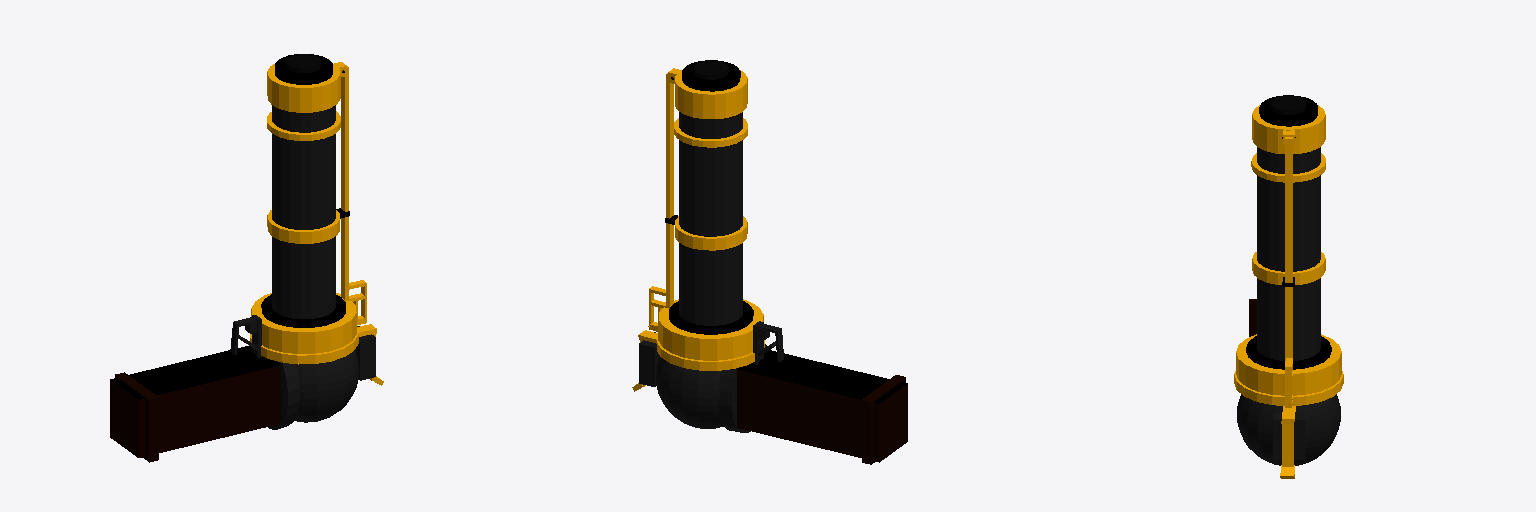
The model's file is 0612gun1.obj.
3 renders of one model, left to right at view 1: azimuth 30°, elevation 25°; view 2: azimuth 150°, elevation 25°; view 3: azimuth 270°, elevation 25°, orthographic.
Parts seen in each view (by area): view 1: pCube16, pCylinder1, pSphere5, pCylinder8, pCylinder4, pCube2, pCube17, pCylinder10, pCylinder2, pCylinder7, pCylinder9, pCylinder5 (+3 smaller); view 2: pCube16, pCylinder1, pSphere5, pCylinder8, pCylinder4, pCube2, pCylinder2, pCube17, pCylinder10, pCylinder7, pCylinder9, pCylinder5 (+3 smaller); view 3: pCylinder1, pSphere5, pCylinder8, pCylinder4, pCube2, pCylinder9, pCylinder7, pCylinder2, pCylinder5, pCube14, pCylinder3, pCylinder6.
Part boxes in pixels (x1,y1,x2,y2): pCube16: (110, 346, 280, 457); pCylinder1: (272, 105, 335, 318); pSphere5: (294, 350, 358, 422); pCylinder8: (251, 293, 356, 353); pCylinder4: (267, 64, 340, 112); pCube2: (341, 66, 348, 300); pCube17: (115, 372, 158, 462); pCylinder10: (268, 361, 299, 429); pCylinder2: (267, 210, 339, 243); pCylinder7: (261, 294, 345, 327); pCylinder9: (250, 328, 358, 364); pCylinder5: (275, 54, 332, 84); pCube16: (737, 350, 907, 462); pCylinder1: (679, 112, 742, 325); pSphere5: (656, 357, 723, 428); pCylinder8: (658, 299, 763, 360); pCylinder4: (675, 70, 747, 118); pCube2: (666, 73, 673, 306); pCylinder2: (675, 216, 747, 250); pCube17: (862, 375, 905, 464); pCylinder10: (719, 344, 766, 432); pCylinder7: (669, 301, 753, 334); pCylinder9: (657, 334, 764, 370); pCylinder5: (682, 60, 740, 91); pCylinder1: (1257, 147, 1320, 360); pSphere5: (1237, 394, 1340, 465); pCylinder8: (1236, 334, 1341, 395); pCylinder4: (1252, 105, 1325, 153); pCube2: (1285, 137, 1292, 370); pCylinder9: (1234, 371, 1343, 405); pCylinder7: (1246, 336, 1331, 369); pCylinder2: (1252, 252, 1325, 284); pCylinder5: (1259, 95, 1317, 126); pCube14: (1273, 413, 1304, 459); pCylinder3: (1251, 153, 1325, 182); pCylinder6: (1271, 96, 1305, 114).
Size of the model in its own units: 9.21 by 12.23 by 3.95.